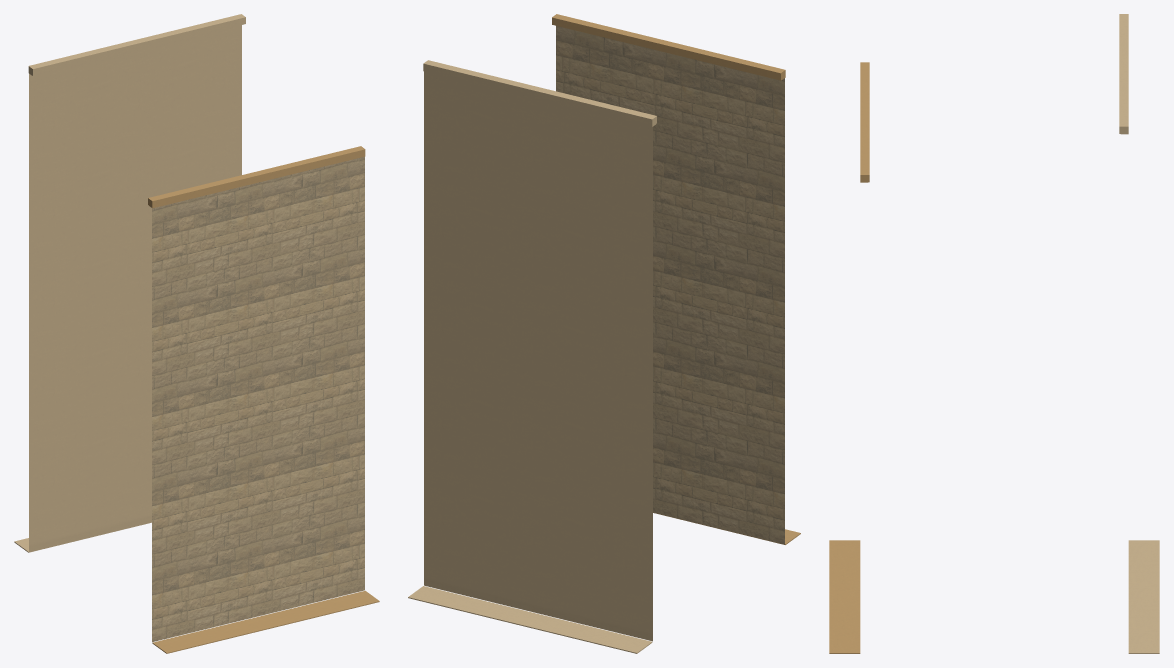
File: fountain-receivers-link-east-mid.glb
The picture shows the model from 3 angles, left to right: view 1: azimuth 30°, elevation 25°; view 2: azimuth 150°, elevation 25°; view 3: azimuth 270°, elevation 25°; orthographic projection. The views are drawn at different scales.
Parts seen in each view (by area): view 1: bz06_dressed_sandstone-cast, bz06_sand_plaster-cast, bz06_faded_ochre-cast; view 2: bz06_sand_plaster-cast, bz06_dressed_sandstone-cast, bz06_faded_ochre-cast; view 3: bz06_faded_ochre-cast, bz06_sand_plaster-cast.
Boxes of the visible parts, x1,y1,x2,y2 form: bz06_dressed_sandstone-cast: (152, 156, 364, 642); bz06_sand_plaster-cast: (14, 14, 245, 552); bz06_faded_ochre-cast: (148, 146, 379, 653); bz06_sand_plaster-cast: (408, 60, 656, 653); bz06_dressed_sandstone-cast: (556, 26, 784, 544); bz06_faded_ochre-cast: (552, 14, 800, 544); bz06_faded_ochre-cast: (829, 62, 869, 653); bz06_sand_plaster-cast: (1119, 14, 1159, 653).
Bounding box in the file's own units: 5 × 10.92 × 6.2.
Materials: 3 (3 with a texture image).
